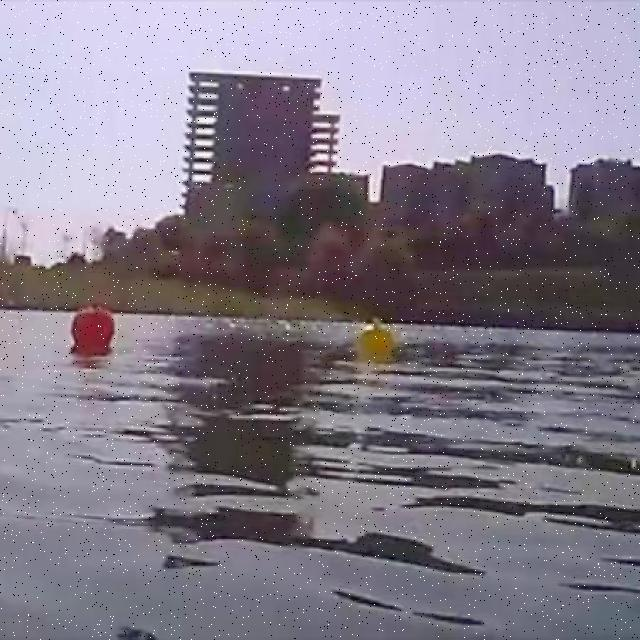buoy: (70, 304, 116, 348), (355, 316, 395, 358)
